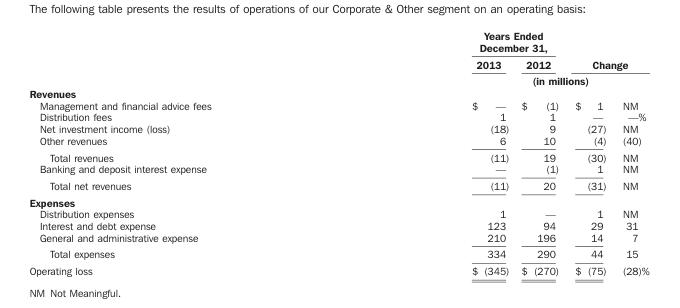table: (28, 28, 648, 276)
table column: (28, 28, 340, 276), (340, 28, 514, 276), (514, 28, 566, 276), (566, 28, 613, 276), (613, 28, 648, 276)
table column header: (28, 28, 648, 86)
table projected row header: (28, 193, 648, 207), (28, 86, 648, 99)
table row: (28, 28, 648, 55), (28, 55, 648, 72), (28, 176, 648, 193), (28, 245, 648, 262), (28, 72, 648, 86), (28, 134, 648, 148), (28, 148, 648, 162), (28, 162, 648, 176), (28, 193, 648, 207), (28, 231, 648, 245), (28, 262, 648, 276), (28, 86, 648, 99), (28, 110, 648, 122), (28, 122, 648, 134), (28, 207, 648, 219), (28, 219, 648, 231), (28, 99, 648, 110)
table spanning cell: (340, 28, 566, 55), (340, 72, 613, 86), (566, 28, 648, 72)
